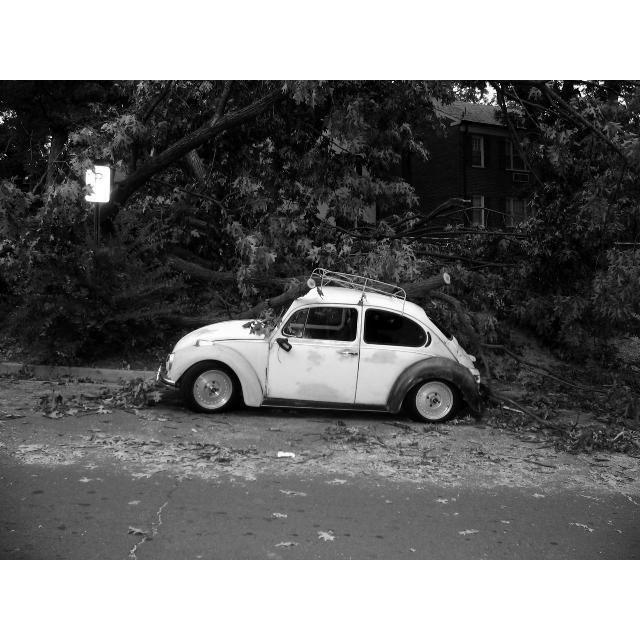doorouter-dent: (281, 307, 359, 403)
